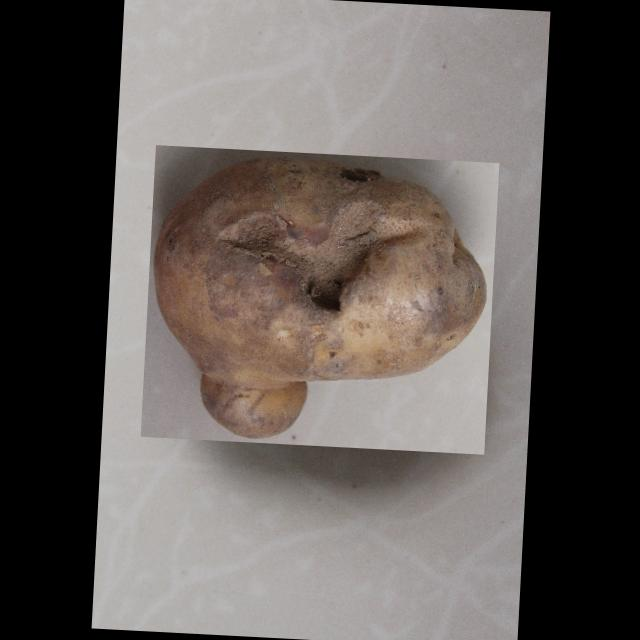Diseased-fungal potato: (140, 145, 498, 455)
